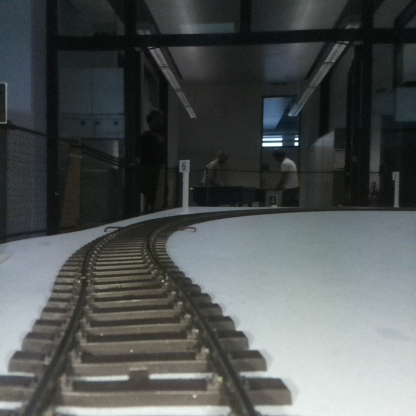white-info-6: (179, 159, 189, 212)
